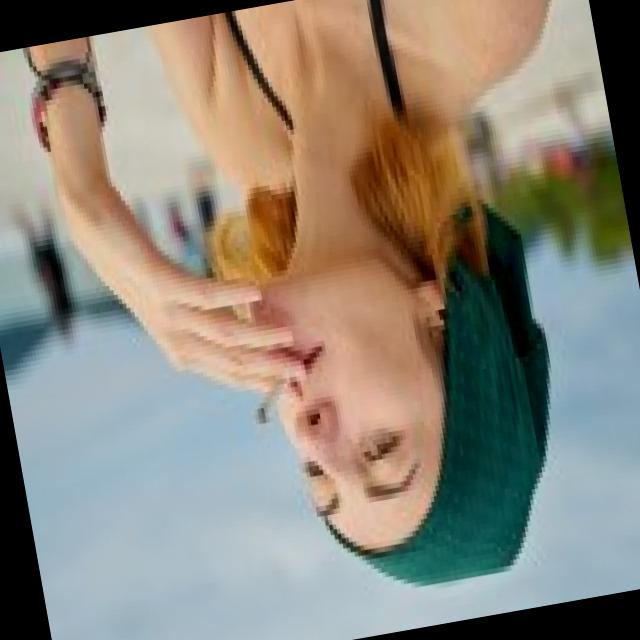smoke: (246, 366, 300, 431)
